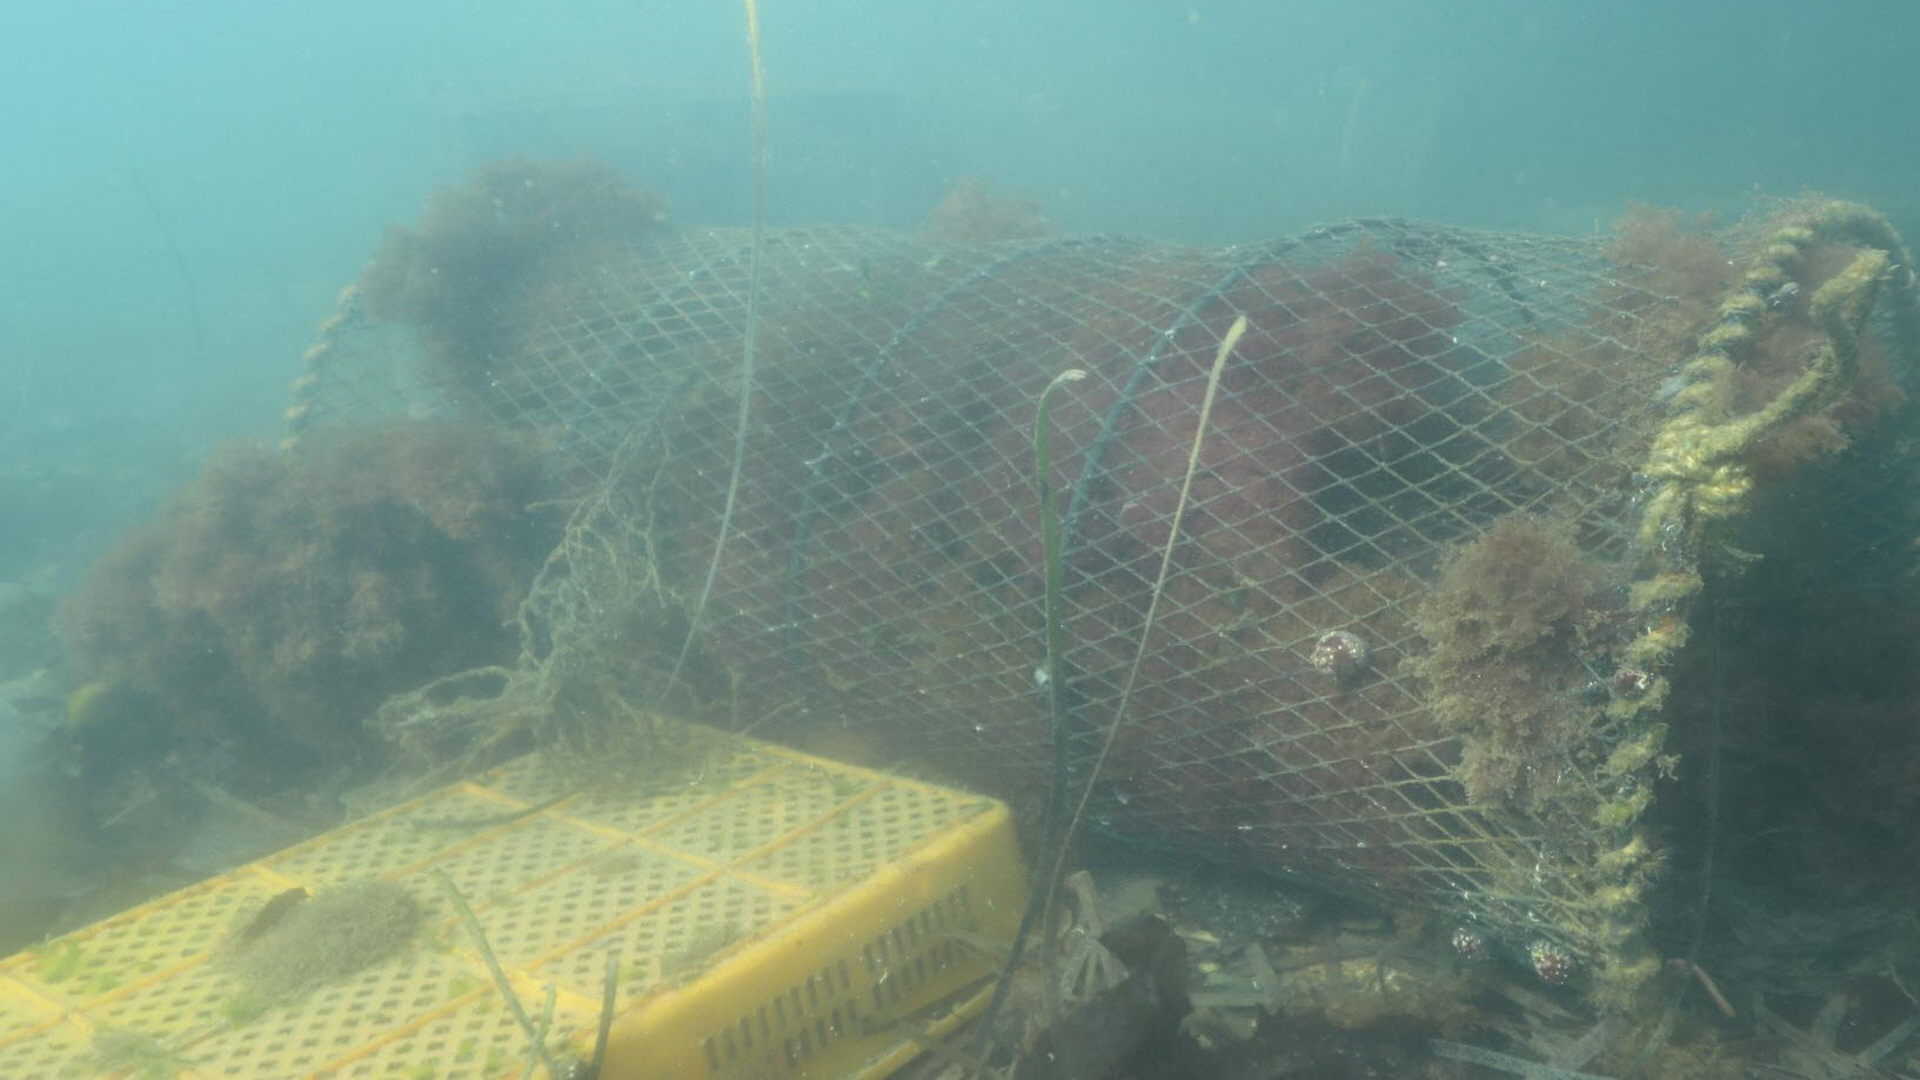bundle of ropes: (1691, 249, 1884, 520)
spring fish trap: (277, 150, 1920, 1011)
